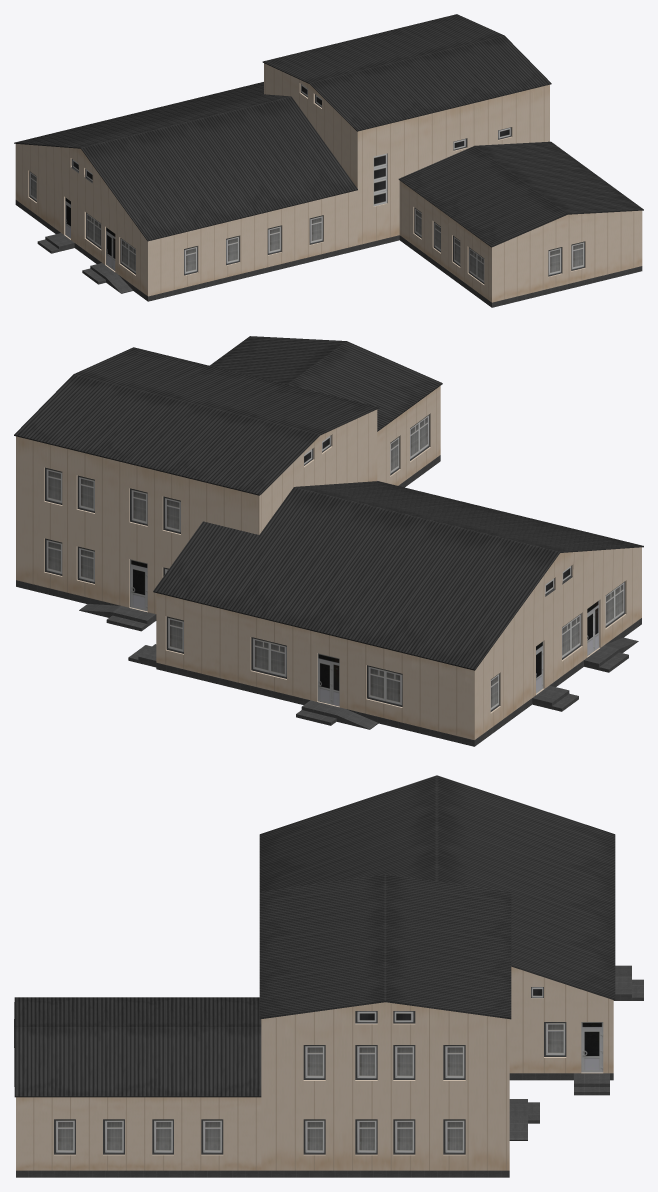
The model's file is plant-building5.glb.
The picture shows the model from 3 angles, top to bottom: view 1: azimuth 30°, elevation 25°; view 2: azimuth 150°, elevation 25°; view 3: azimuth 270°, elevation 25°; orthographic projection. The views are drawn at different scales.
Parts seen in each view (by area): view 1: Object8932262; view 2: Object8932262; view 3: Object8932262.
Boxes of the visible parts, box(x1,y1,x2,y2) form: Object8932262: box(14, 14, 643, 307); Object8932262: box(14, 336, 643, 746); Object8932262: box(14, 775, 643, 1177).
Size of the model in its own units: 29.7 by 8.88 by 28.56.
1 material, 1 textured.
